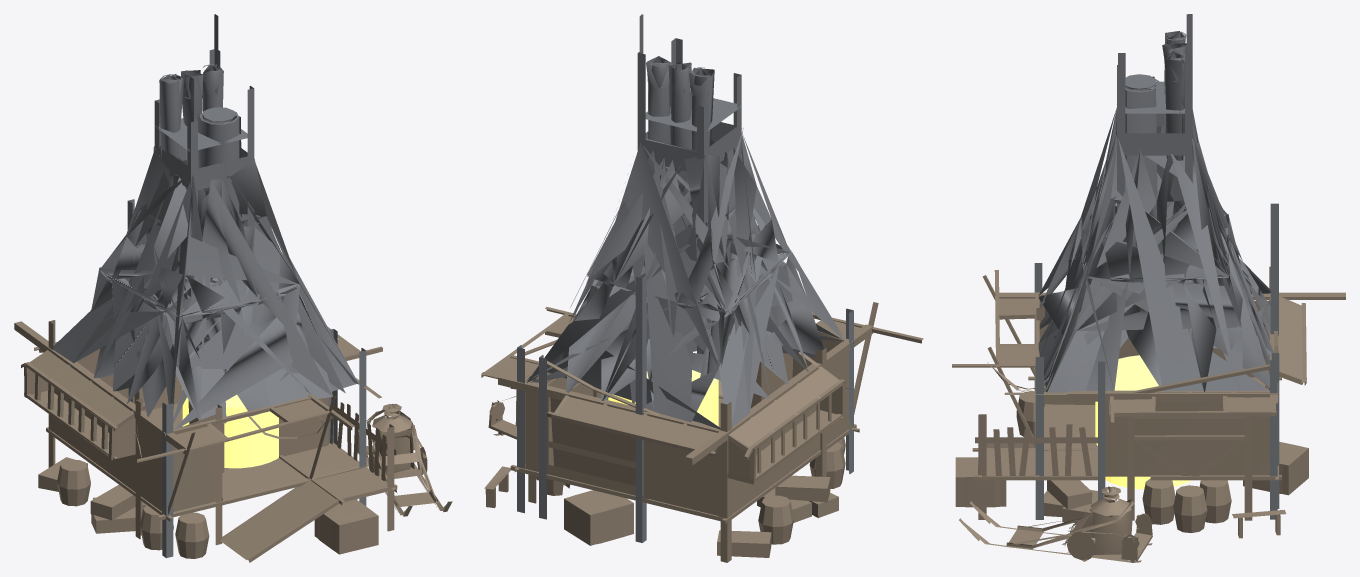
Rendered from hunter_hut.glb.
The picture shows the model from 3 angles, left to right: view 1: azimuth 30°, elevation 25°; view 2: azimuth 150°, elevation 25°; view 3: azimuth 270°, elevation 25°; orthographic projection. The views are drawn at different scales.
Parts seen in each view (by area): view 1: hunter_hut_Building; view 2: hunter_hut_Building; view 3: hunter_hut_Building.
Part boxes in pixels (x1=…): hunter_hut_Building: x1=14, y1=14, x2=452, y2=562; hunter_hut_Building: x1=481, y1=14, x2=923, y2=562; hunter_hut_Building: x1=952, y1=14, x2=1345, y2=562.
Bounding box in the file's own units: 9.05 × 11.59 × 8.8.
